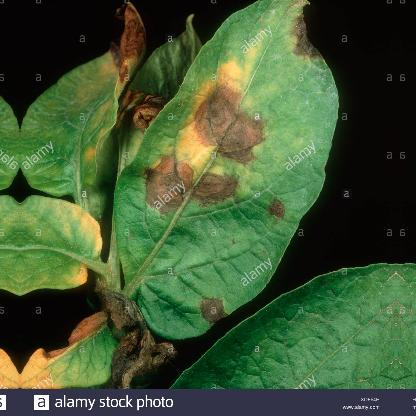Early-Blight: (19, 3, 339, 384)
